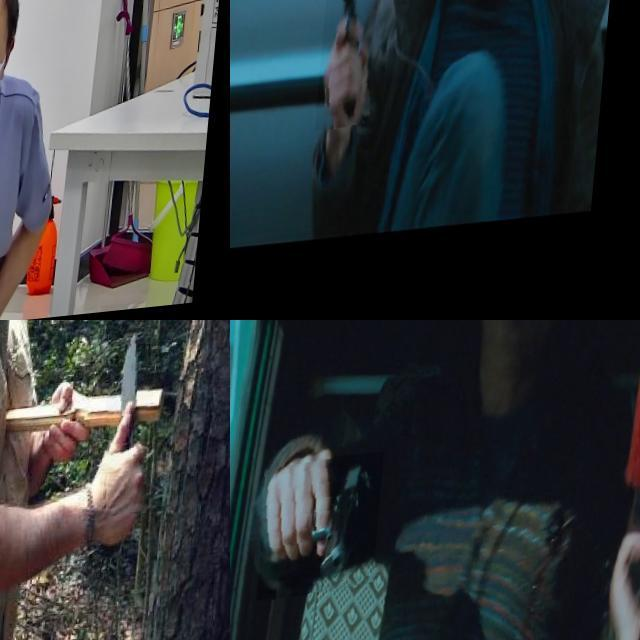-: (105, 336, 164, 526)
gun-knife-thesis - v11 Yolov5 augmented: (265, 456, 391, 602), (323, 0, 388, 138), (0, 0, 40, 154)
